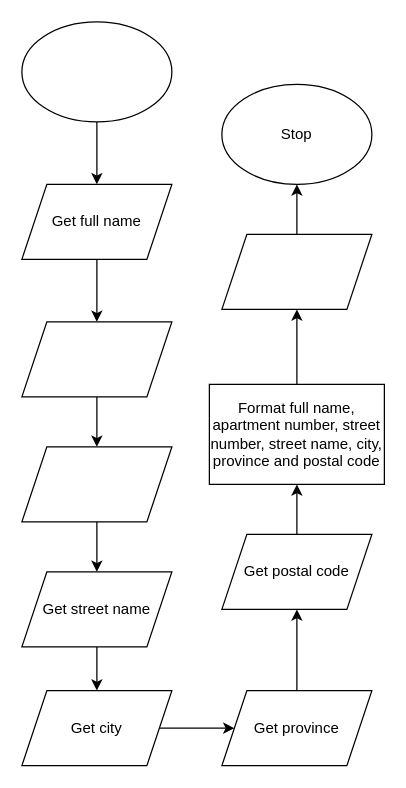
This 406x788 diagram has some shape labels left out. Here are the shapes that lost their labels. From the top down, the box of each, then its label:
(21, 21, 172, 122): Start
(221, 233, 372, 309): Return address
(21, 321, 172, 397): Get apartment number
(21, 446, 172, 522): Get street number
